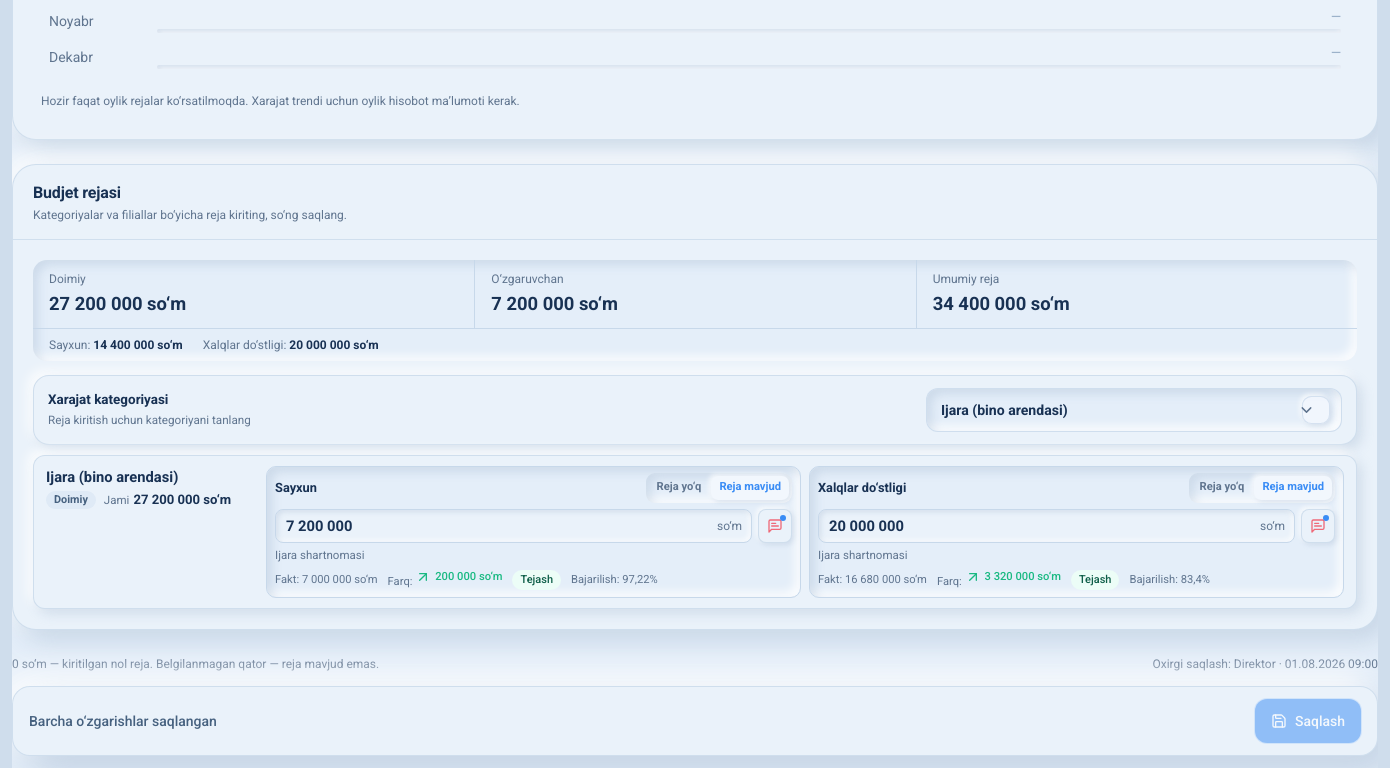
it: Budjet sahifasi › selectdan tanlangan kategoriyaning o‘zigina kiritish uchun ko‘rsatiladi
(page scrolled)
Expected: the heading "Ijara (bino arendasi)" is shown, [46,468,178,486]
Expected: the heading "Marketing" is not shown
Select "Marketing" in the dropdown named "Budjet kategoriyasi" at (1134, 410), box [926,388,1342,432]
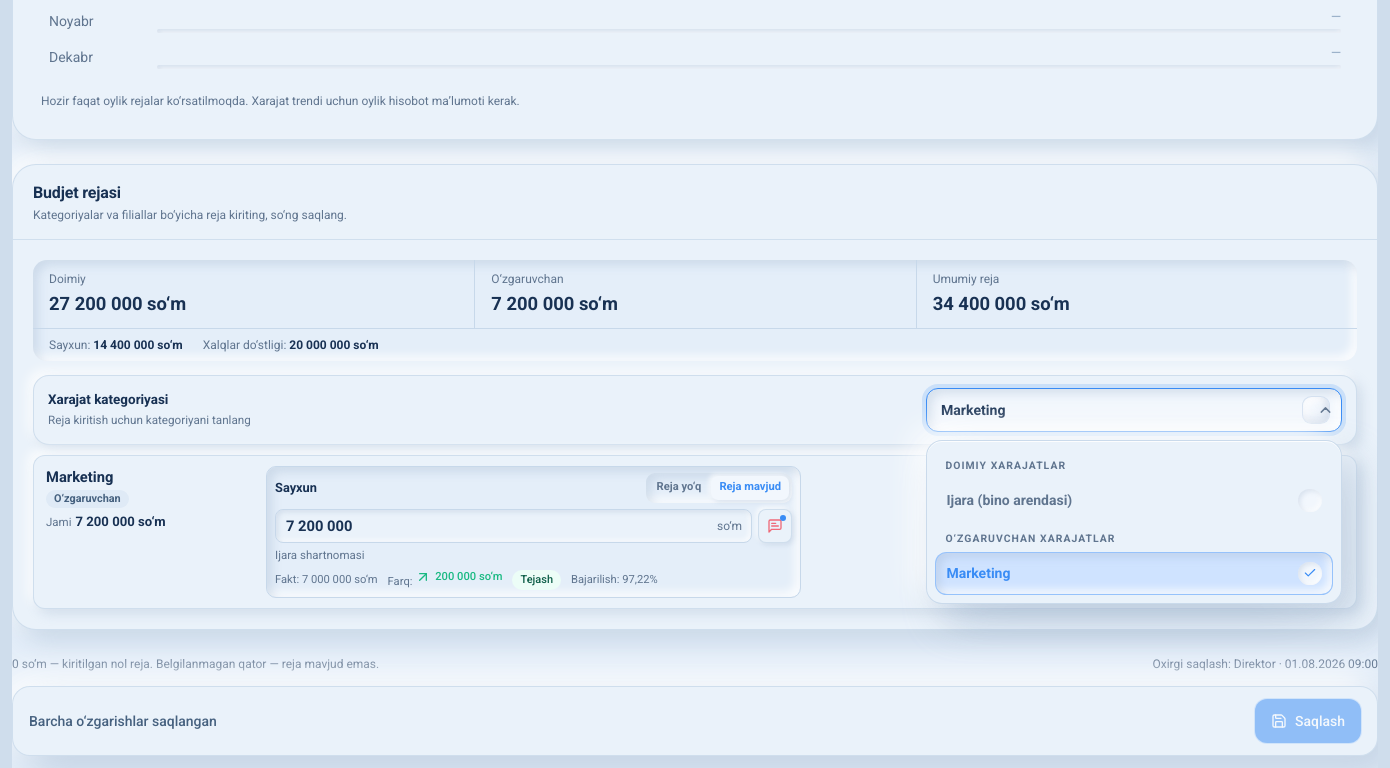
Expected: the heading "Marketing" is shown, [46,468,113,486]
Select "Ijara (bino arendasi)" in the dropdown named "Budjet kategoriyasi" at (1134, 410), box [926,388,1342,432]
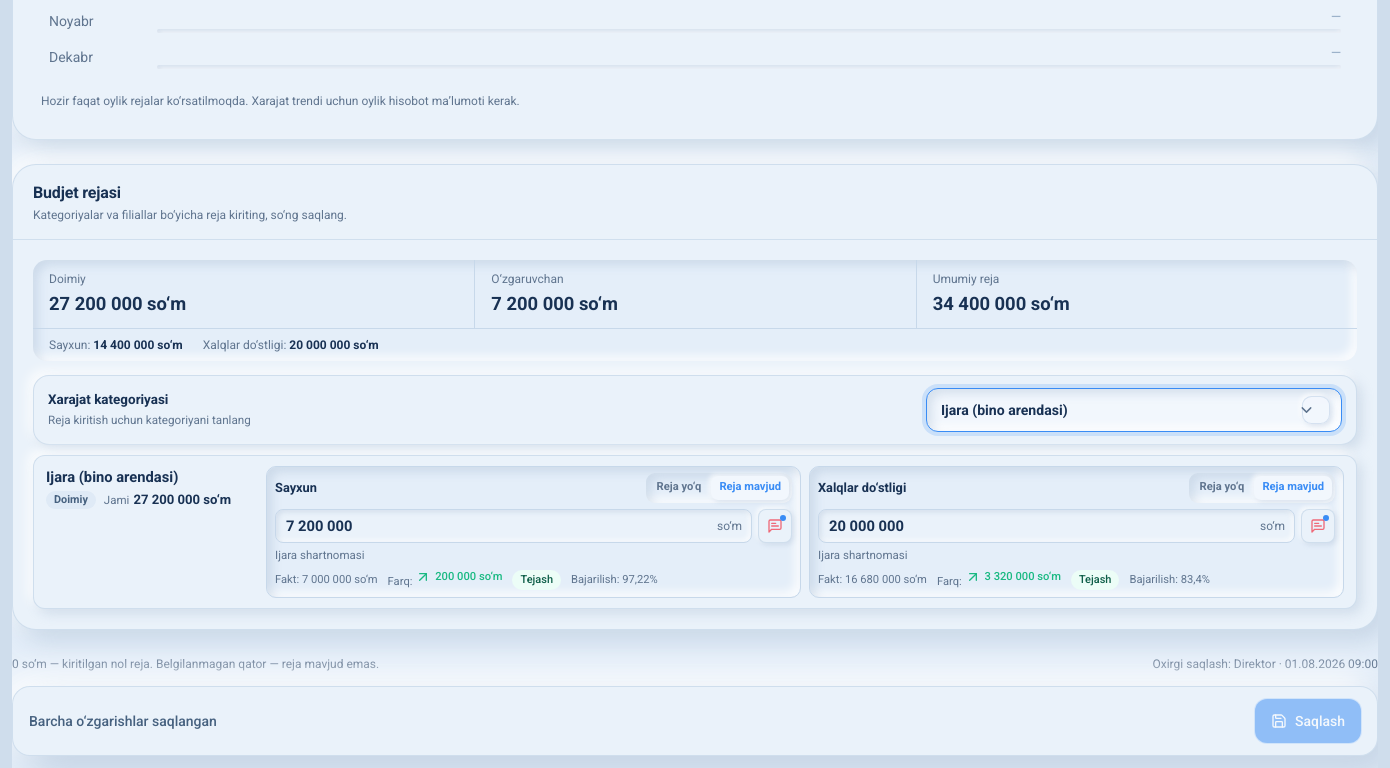
Expected: the heading "Ijara (bino arendasi)" is shown, [46,468,178,486]
Expected: the heading "Marketing" is gone
